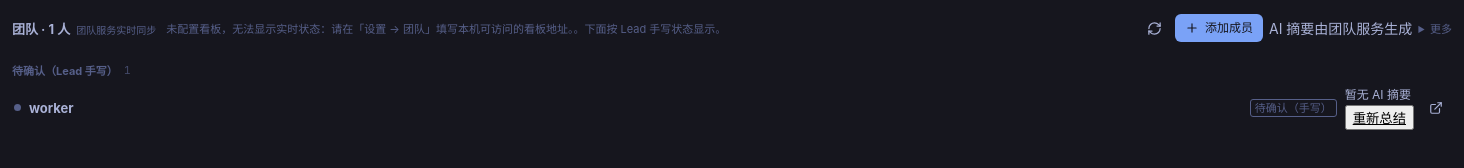
it: reports stale sessions and never silently retargets a member
The image size is (1464, 168).
Click the button named "打开 · worker": (1436, 108) [1422,94,1450,122]
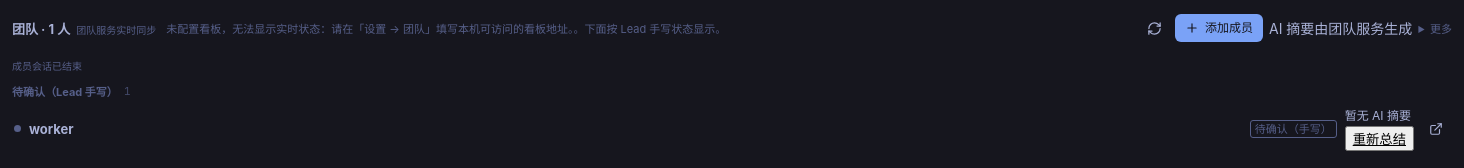
Expected: the message reads "成员会话已结束", [12,60,82,72]
